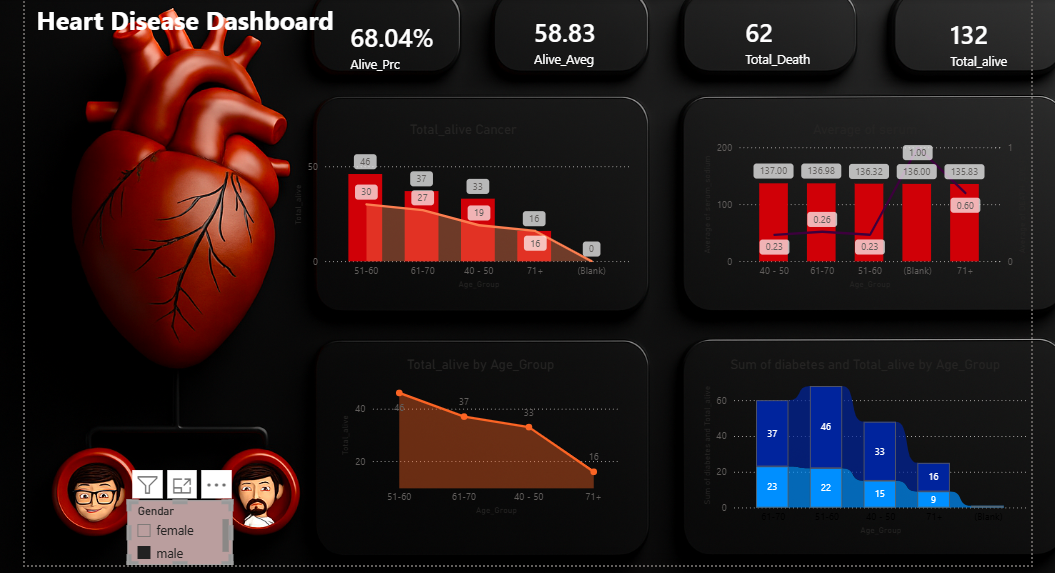

Layout of this report page (visuals, bound fields, positions):
{"tool":"powerbi","page":{"name":"Page 1","canvas":[1280,720],"ordinal":0},"visuals":[{"type":"textbox","box":[9.9,0,462,60.6],"z":0},{"type":"cardVisual","fields":{"Data":["heart_Disease_clinical_records_.Alive_Prc"]},"box":[384.8,6.4,173.3,108.1],"z":1000},{"type":"cardVisual","fields":{"Data":["heart_Disease_clinical_records_.Alive_Aveg"]},"box":[618.6,0,143.1,108.1],"z":2000},{"type":"lineStackedColumnComboChart","title":"Average of serum","fields":{"Category":["heart_Disease_clinical_records_.Age_Group"],"Y":["Avg(heart_Disease_clinical_records_.serum_sodium)"],"Y2":["Avg(heart_Disease_clinical_records_.DEATH_EVENT)"]},"box":[857.1,155.8,423,217.8],"z":3000},{"type":"cardVisual","fields":{"Data":["heart_Disease_clinical_records_.Total_alive"]},"box":[1148.1,0,132,112.9],"z":4000},{"type":"cardVisual","fields":{"Data":["heart_Disease_clinical_records_.Total_Death"]},"box":[887.3,0,144.7,108.1],"z":5000},{"type":"lineChart","fields":{"Category":["heart_Disease_clinical_records_.Age_Group"],"Y":["heart_Disease_clinical_records_.Total_alive"]},"box":[397.5,454.8,364.1,206.7],"z":6000},{"type":"ribbonChart","fields":{"Category":["heart_Disease_clinical_records_.Age_Group"],"Y":["Sum(heart_Disease_clinical_records_.diabetes)","heart_Disease_clinical_records_.Total_alive"]},"box":[857.1,454.8,423,232.2],"z":7000},{"type":"lineStackedColumnComboChart","title":"Total_alive Cancer ","fields":{"Category":["heart_Disease_clinical_records_.Age_Group"],"Y":["heart_Disease_clinical_records_.Total_alive"],"Y2":["Sum(heart_Disease_clinical_records_.cancer)"]},"box":[337.1,155.8,440.5,217.8],"z":8000},{"type":"slicer","fields":{"Values":["heart_Disease_clinical_records_.Gendar"]},"box":[130.4,637.6,133.6,82.7],"z":9000}]}

Visuals, with their boxes on the page's 1280x720 design canvas (x1, y1, x2, y2). These are canvas units, not pixel positions in the 1055x573 screenshot, which may show the page scaled, cropped or inside an application window:
textbox: crop(10, 0, 472, 61)
cardVisual - heart_Disease_clinical_records_.Alive_Prc: crop(385, 6, 558, 114)
cardVisual - heart_Disease_clinical_records_.Alive_Aveg: crop(619, 0, 762, 108)
"Average of serum" lineStackedColumnComboChart: crop(857, 156, 1280, 374)
cardVisual - heart_Disease_clinical_records_.Total_alive: crop(1148, 0, 1280, 113)
cardVisual - heart_Disease_clinical_records_.Total_Death: crop(887, 0, 1032, 108)
lineChart - heart_Disease_clinical_records_.Age_Group x heart_Disease_clinical_records_.Total_alive: crop(398, 455, 762, 662)
ribbonChart - heart_Disease_clinical_records_.Age_Group x Sum(heart_Disease_clinical_records_.diabetes): crop(857, 455, 1280, 687)
"Total_alive Cancer " lineStackedColumnComboChart: crop(337, 156, 778, 374)
slicer - heart_Disease_clinical_records_.Gendar: crop(130, 638, 264, 720)
